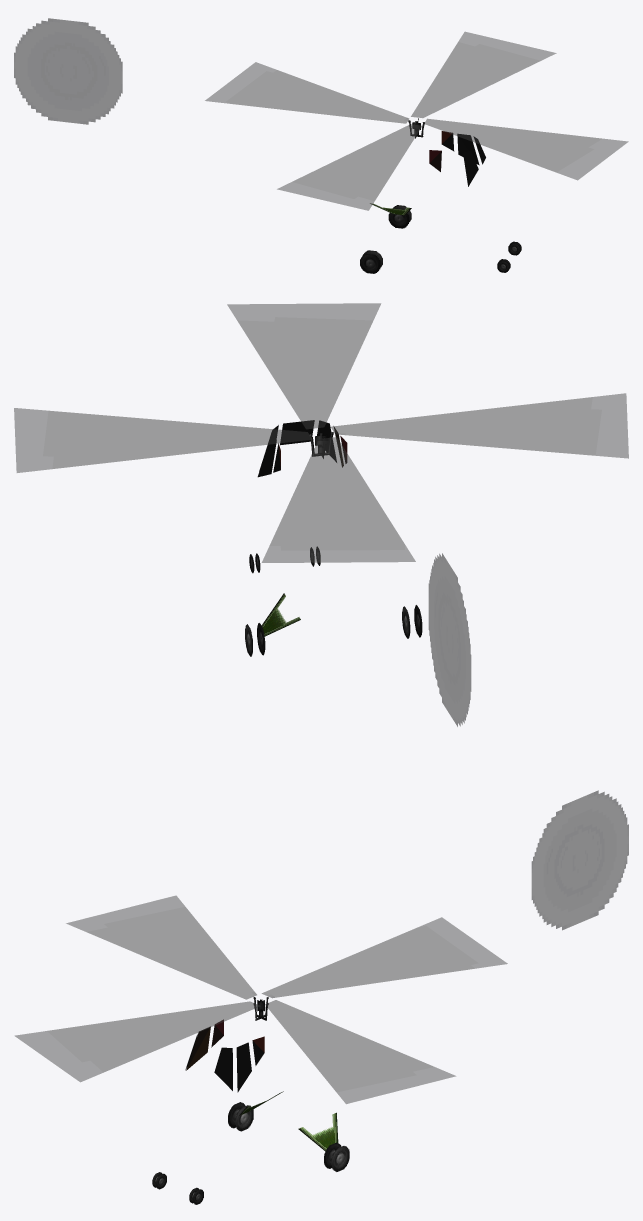
File: surface2_secondary_001.glb
The picture shows the model from 3 angles, top to bottom: view 1: azimuth 30°, elevation 25°; view 2: azimuth 150°, elevation 25°; view 3: azimuth 270°, elevation 25°; orthographic projection. The views are drawn at different scales.
Visible parts, largest first — view 1: Object; view 2: Object; view 3: Object.
Part boxes in pixels (x1=…): Object: x1=14, y1=18, x2=628, y2=273; Object: x1=14, y1=303, x2=628, y2=726; Object: x1=15, y1=790, x2=628, y2=1204.
Size of the model in its own units: 22.62 by 9.6 by 23.03.
19 materials, 19 textured.
